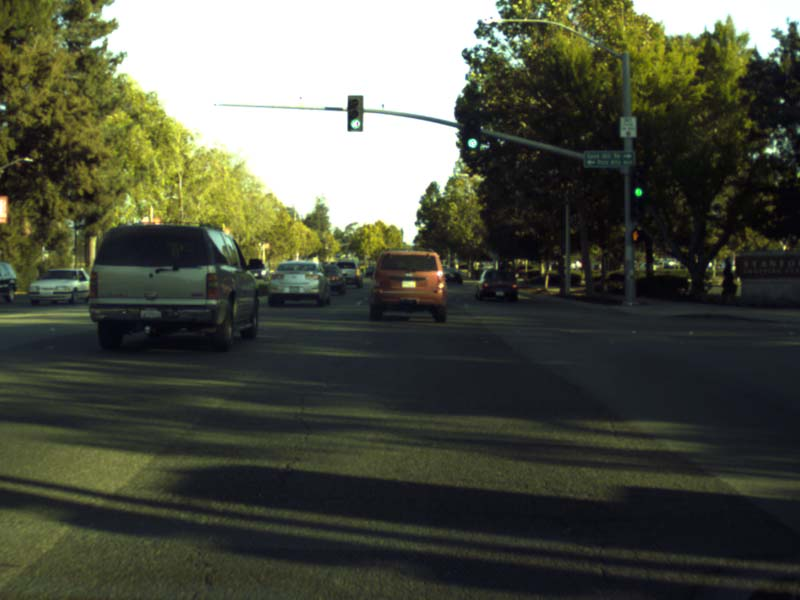Green: (346, 95, 363, 133), (464, 111, 480, 149), (631, 167, 642, 221)
